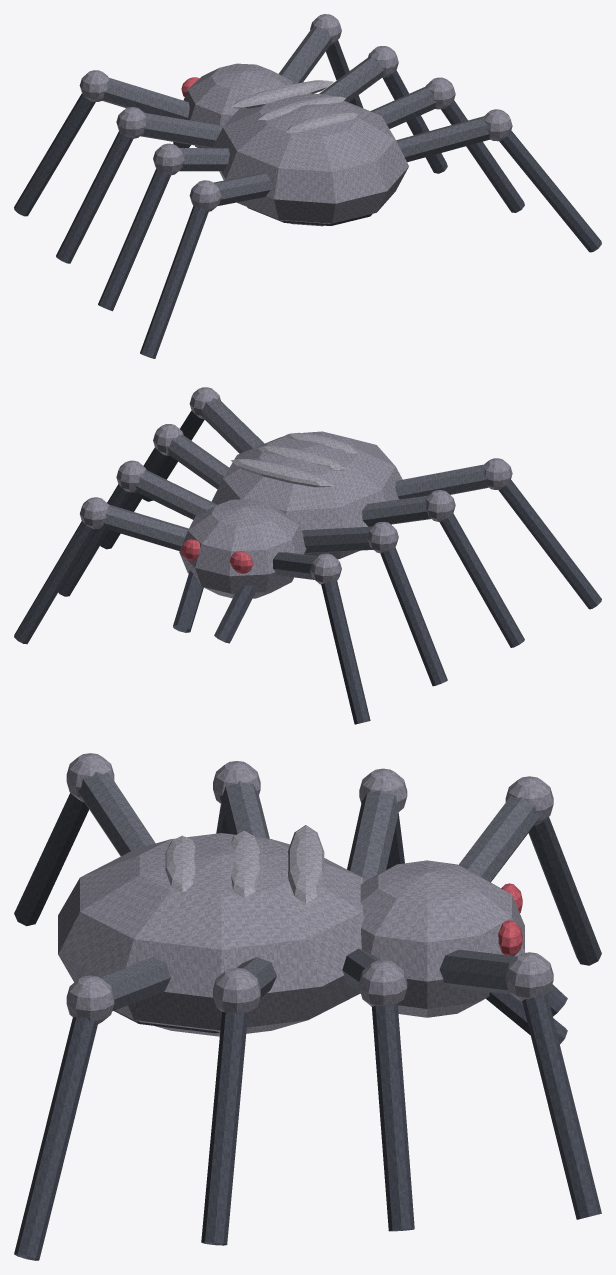
Rendered from spider_armored.glb.
3 renders of one model, top to bottom at view 1: azimuth 30°, elevation 25°; view 2: azimuth 150°, elevation 25°; view 3: azimuth 270°, elevation 25°, orthographic. The views are drawn at different scales.
Size of the model in its own units: 4.62 by 1.46 by 3.26.
Materials: 5 (5 with a texture image).
